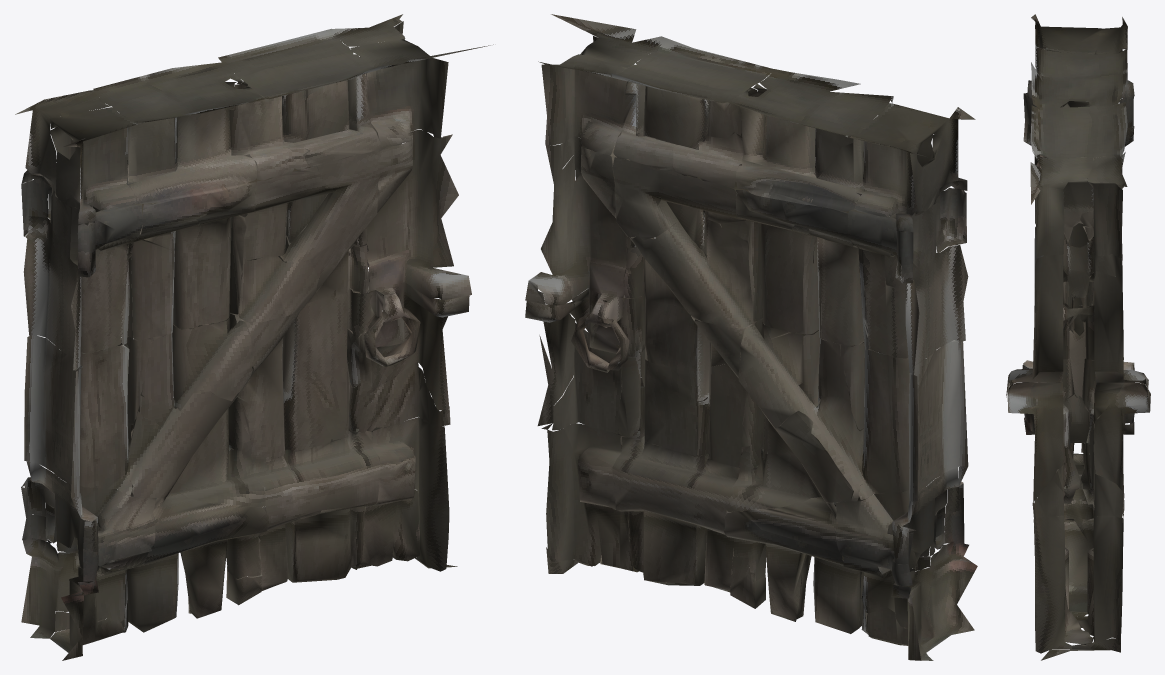
Rendered from mn_door.glb.
3 renders of one model, left to right at view 1: azimuth 30°, elevation 25°; view 2: azimuth 150°, elevation 25°; view 3: azimuth 270°, elevation 25°, orthographic. The views are drawn at different scales.
Visible parts, largest first — view 1: mn_door; view 2: mn_door; view 3: mn_door.
Boxes of the visible parts, x1,y1,x2,y2 form: mn_door: [15, 14, 493, 660]; mn_door: [525, 14, 977, 660]; mn_door: [1006, 14, 1150, 660].
Size of the model in its own units: 1.7 by 1.99 by 0.5426.
Materials: 1 (1 with a texture image).
